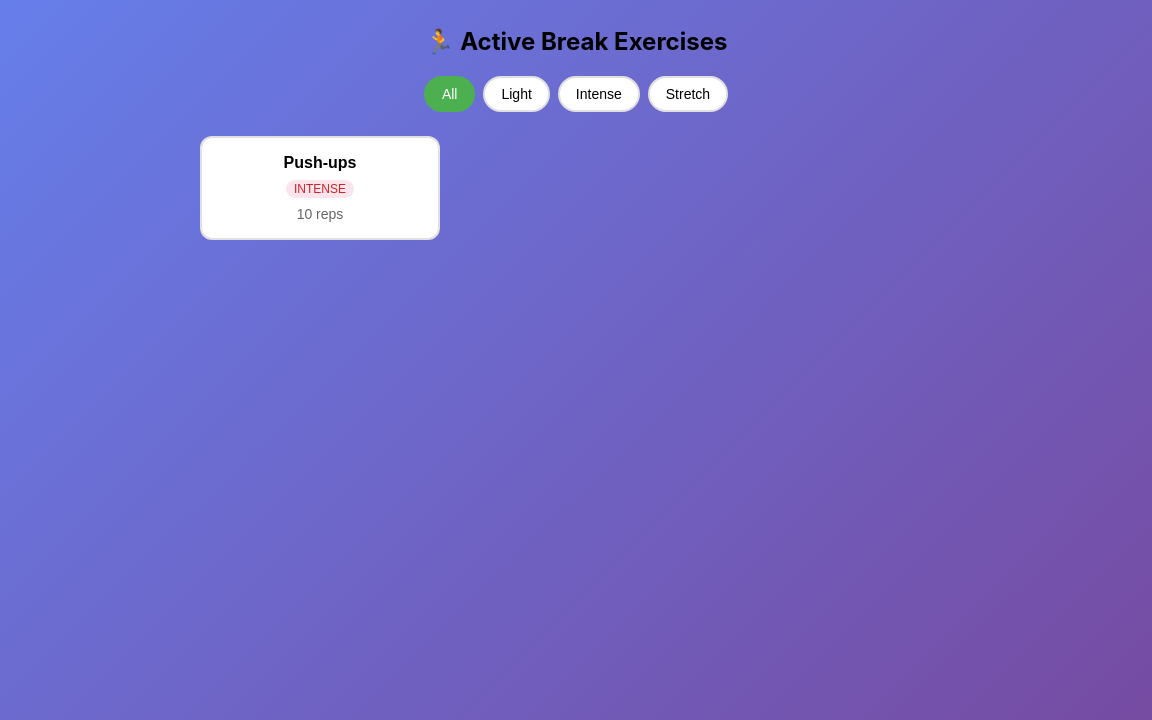
ExerciseLibrary › shows empty-state when filtered result is empty
Click the button with aria-label "filter by stretch": (688, 94) [648,76,728,112]
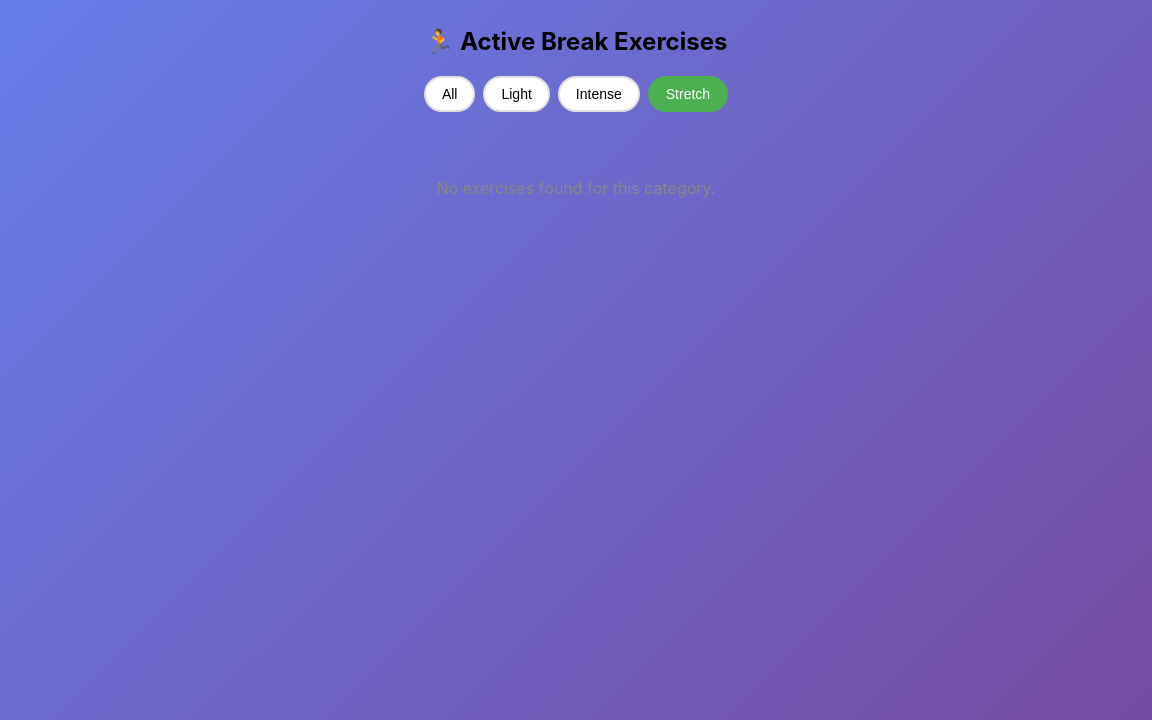
Result: the text "No exercises found for this category." is shown at [436,178,715,198]
